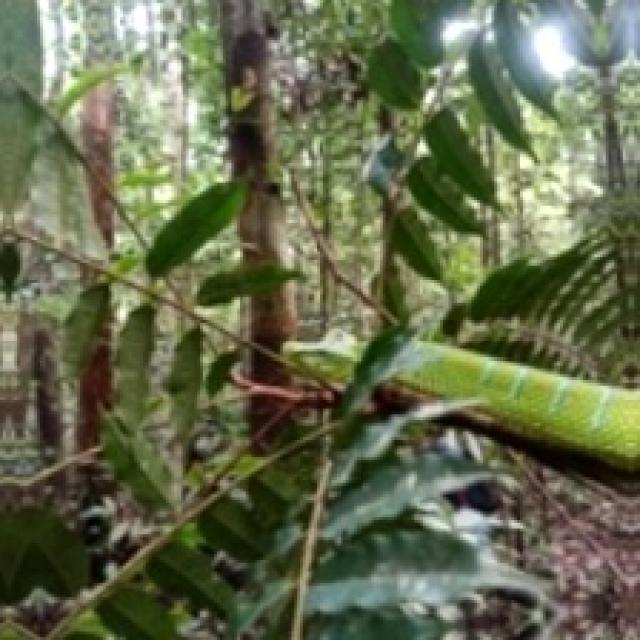north ph temple pitviper: (395, 338, 640, 472), (286, 342, 364, 383)
